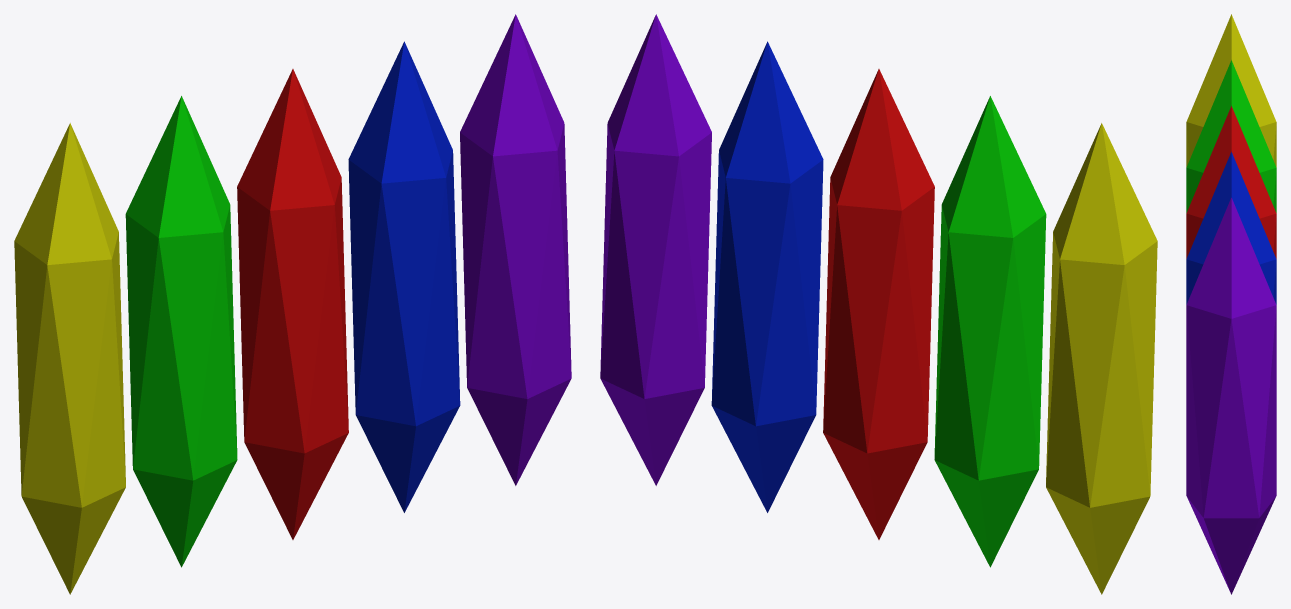
Rendered from crystalls.obj.
The picture shows the model from 3 angles, left to right: view 1: azimuth 30°, elevation 25°; view 2: azimuth 150°, elevation 25°; view 3: azimuth 270°, elevation 25°; orthographic projection. The views are drawn at different scales.
Parts seen in each view (by area): view 1: Icosphere.001, Icosphere.002, Icosphere.003, Icosphere, Icosphere.004; view 2: Icosphere.001, Icosphere.002, Icosphere.003, Icosphere, Icosphere.004; view 3: Icosphere.003, Icosphere, Icosphere.001, Icosphere.002, Icosphere.004.
Part boxes in pixels (x1,y1,x2,y2): Icosphere.001: (125, 96, 237, 567); Icosphere.002: (348, 41, 460, 512); Icosphere.003: (460, 14, 571, 485); Icosphere: (237, 69, 348, 539); Icosphere.004: (14, 123, 125, 594); Icosphere.001: (934, 96, 1046, 567); Icosphere.002: (711, 41, 823, 512); Icosphere.003: (600, 14, 711, 485); Icosphere: (823, 69, 934, 539); Icosphere.004: (1046, 123, 1157, 594); Icosphere.003: (1186, 197, 1276, 594); Icosphere: (1186, 106, 1276, 258); Icosphere.001: (1186, 60, 1276, 212); Icosphere.002: (1186, 151, 1276, 304); Icosphere.004: (1186, 14, 1276, 167).
Size of the model in its own units: 17.06 by 14.18 by 2.91.
